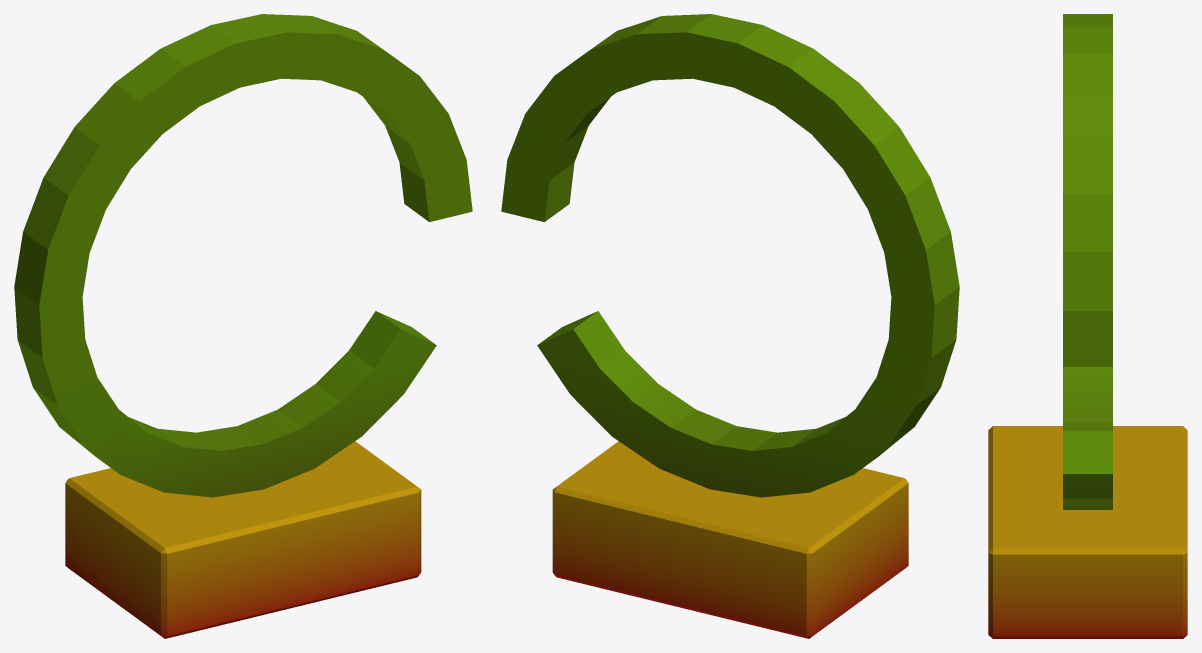
File: ring_monument_broken.glb
The picture shows the model from 3 angles, left to right: view 1: azimuth 30°, elevation 25°; view 2: azimuth 150°, elevation 25°; view 3: azimuth 270°, elevation 25°; orthographic projection.
Parts seen in each view (by area): view 1: ring_monument_broken; view 2: ring_monument_broken; view 3: ring_monument_broken.
Part boxes in pixels (box(x1,y1,x2,y2)): ring_monument_broken: box(14, 14, 472, 638); ring_monument_broken: box(501, 14, 959, 638); ring_monument_broken: box(988, 14, 1187, 638).
Size of what is drawn, in the model's own units: 5 by 5.99 by 2.
